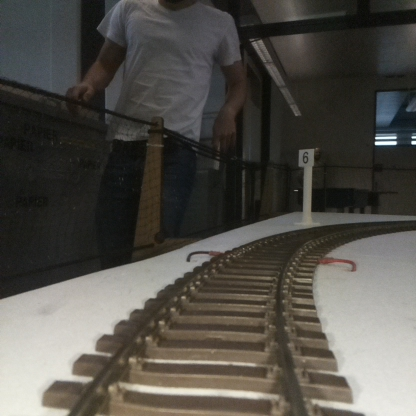white-info-6: (298, 148, 313, 225)
